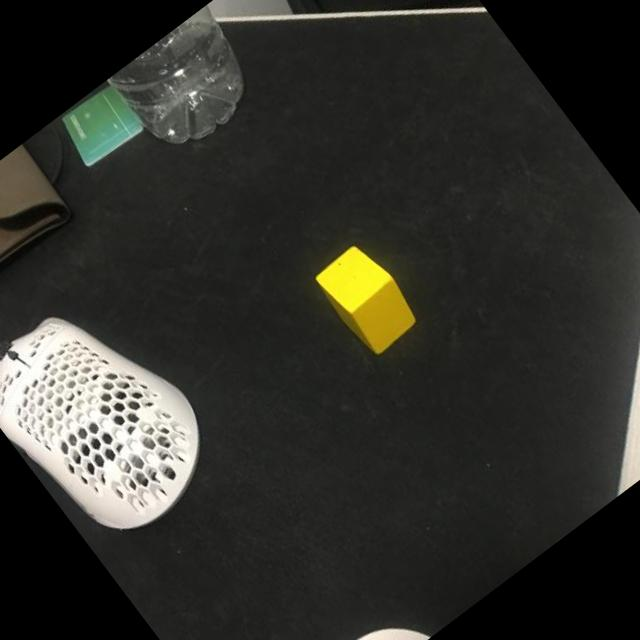yellow: (311, 238, 426, 360)
